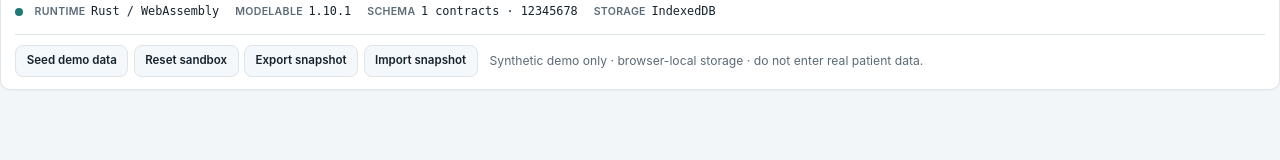
RuntimePanel › runs visible browser controls and keeps the clinical-data warning present
Expected: the text "Rust / WebAssembly" is shown, left=91, top=3, right=219, bottom=20
Expected: the text "do not enter real patient data" is shown, left=490, top=52, right=923, bottom=68
Click the button "Seed demo data".
click(72, 61)  # box left=15, top=45, right=128, bottom=77
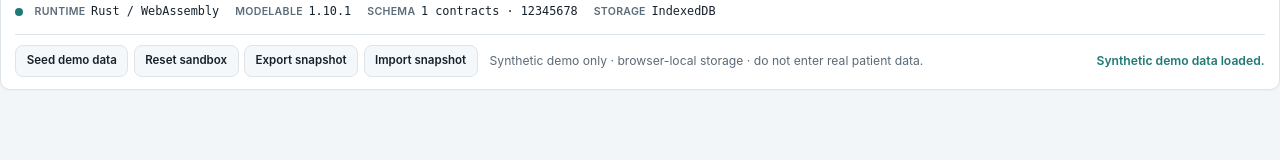
Expected: the message shows "Synthetic demo data loaded", left=1096, top=52, right=1265, bottom=68
Click the button "Reset sandbox".
click(186, 61)  # box left=134, top=45, right=239, bottom=77
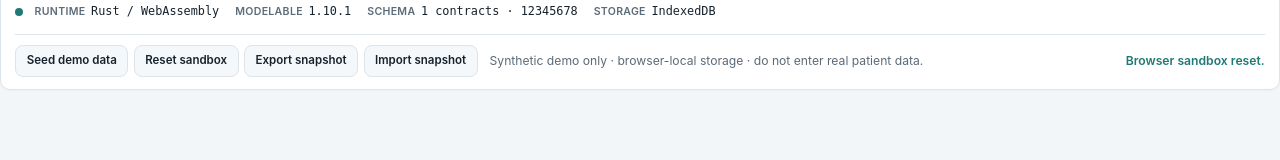
Expected: the message shows "Browser sandbox reset", left=1126, top=52, right=1265, bottom=68
